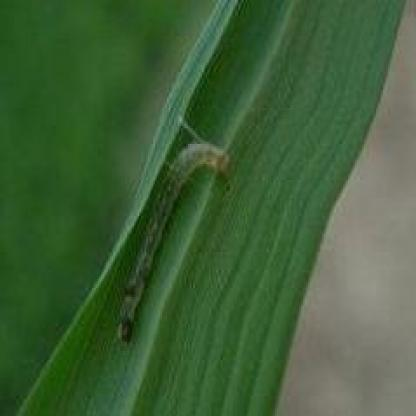leaf-folder: (82, 104, 232, 350)
